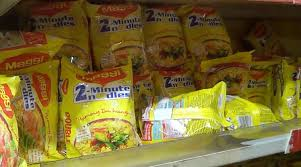maggi: (40, 18, 246, 135)
